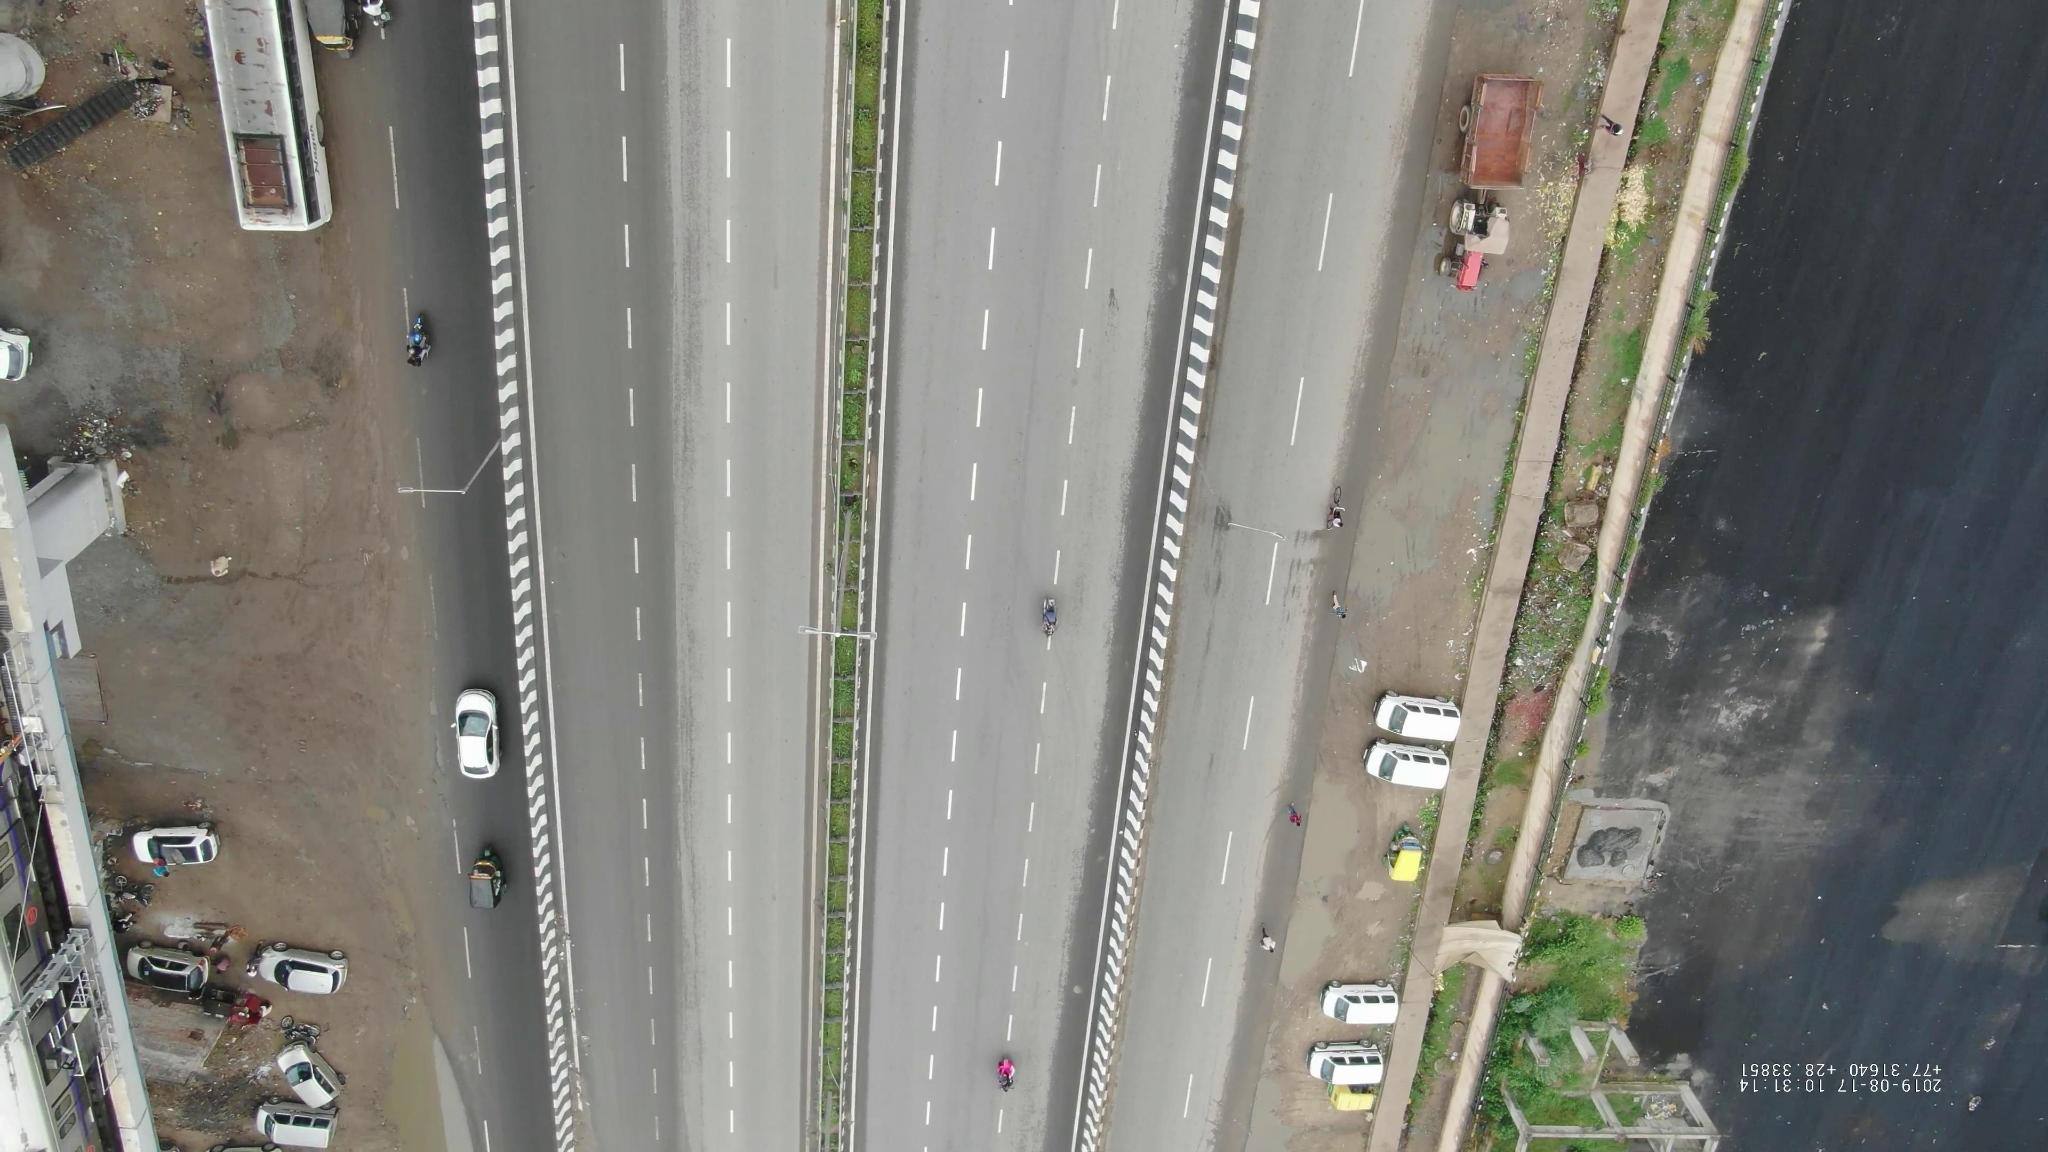Waterlogging: (1364, 307, 1537, 595), (1274, 800, 1381, 992)
